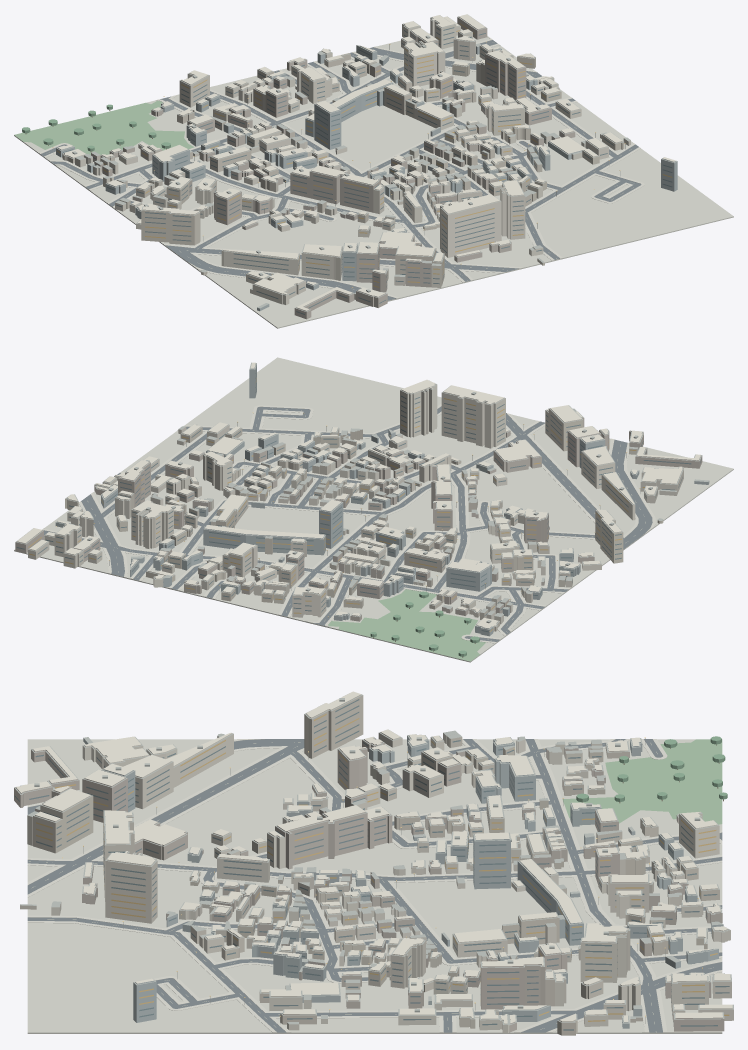
3 views of the same model, one above another, from view 1: azimuth 30°, elevation 25°; view 2: azimuth 150°, elevation 25°; view 3: azimuth 270°, elevation 25° (orthographic). The views are drawn at different scales.
Visible parts, largest first — view 1: city; view 2: city; view 3: city.
Boxes of the visible parts, x1=… form: city: x1=14, y1=14, x2=733, y2=328; city: x1=14, y1=357, x2=733, y2=662; city: x1=14, y1=691, x2=733, y2=1035.
Bounding box in the file's own units: 519 × 48.15 × 518.
